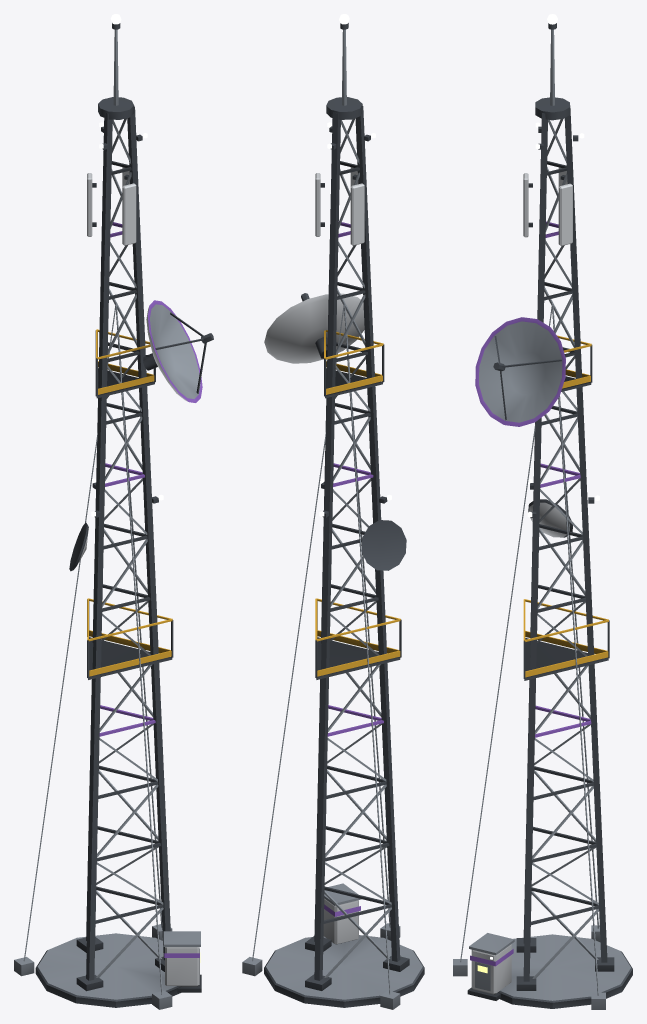
The model's file is comms_tower.glb.
The picture shows the model from 3 angles, left to right: view 1: azimuth 30°, elevation 25°; view 2: azimuth 150°, elevation 25°; view 3: azimuth 270°, elevation 25°; orthographic projection.
Visible parts, largest first — view 1: Base; view 2: Base; view 3: Base.
Part boxes in pixels (x1=…): Base: x1=14, y1=23, x2=213, y2=1009; Base: x1=242, y1=23, x2=424, y2=1009; Base: x1=453, y1=23, x2=632, y2=1009.
Size of the model in its own units: 4.1 by 24.4 by 4.14.
